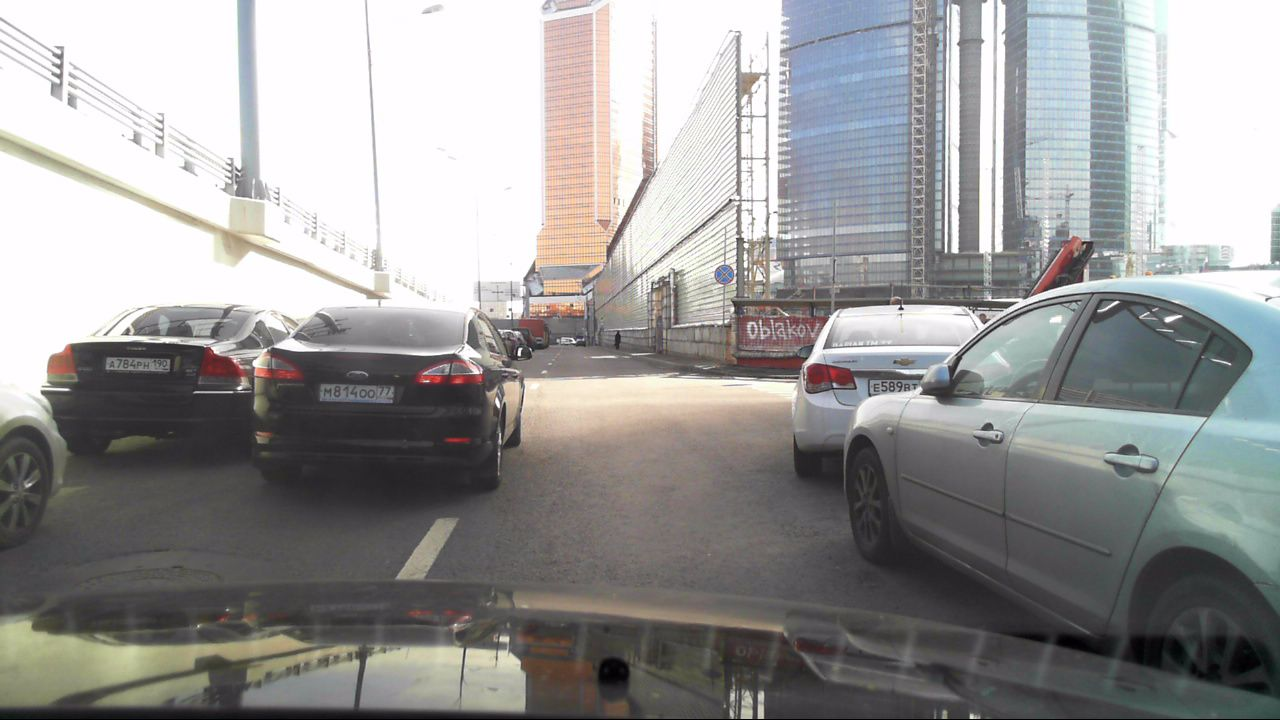No Parking: (714, 263, 736, 286)
